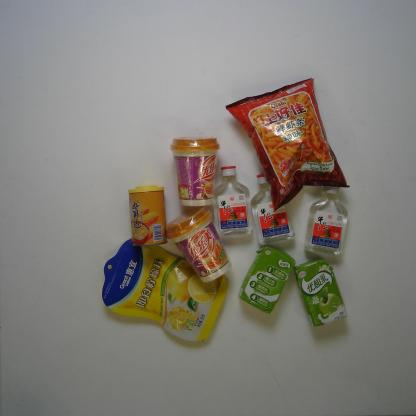Alcohol: (304, 183, 349, 256), (251, 173, 294, 244), (211, 166, 253, 238)
Canned Food: (128, 184, 170, 248)
Dried Fruit: (102, 238, 229, 342)
Instant Drink: (165, 206, 231, 284), (170, 136, 221, 208)
Milk: (237, 246, 294, 315), (294, 258, 348, 326)
Puffed Food: (225, 78, 349, 212)
